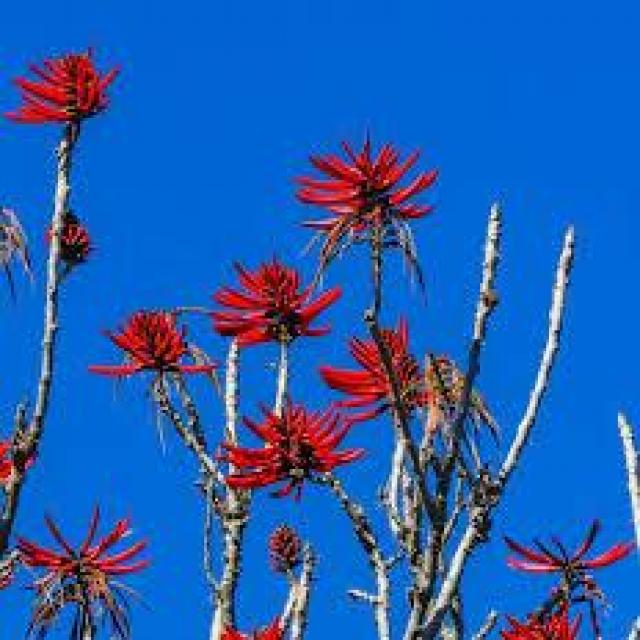organic waste: (304, 137, 452, 276), (228, 394, 349, 508), (330, 322, 448, 431), (202, 255, 336, 347), (75, 292, 202, 389), (509, 526, 622, 632), (16, 52, 130, 128)
